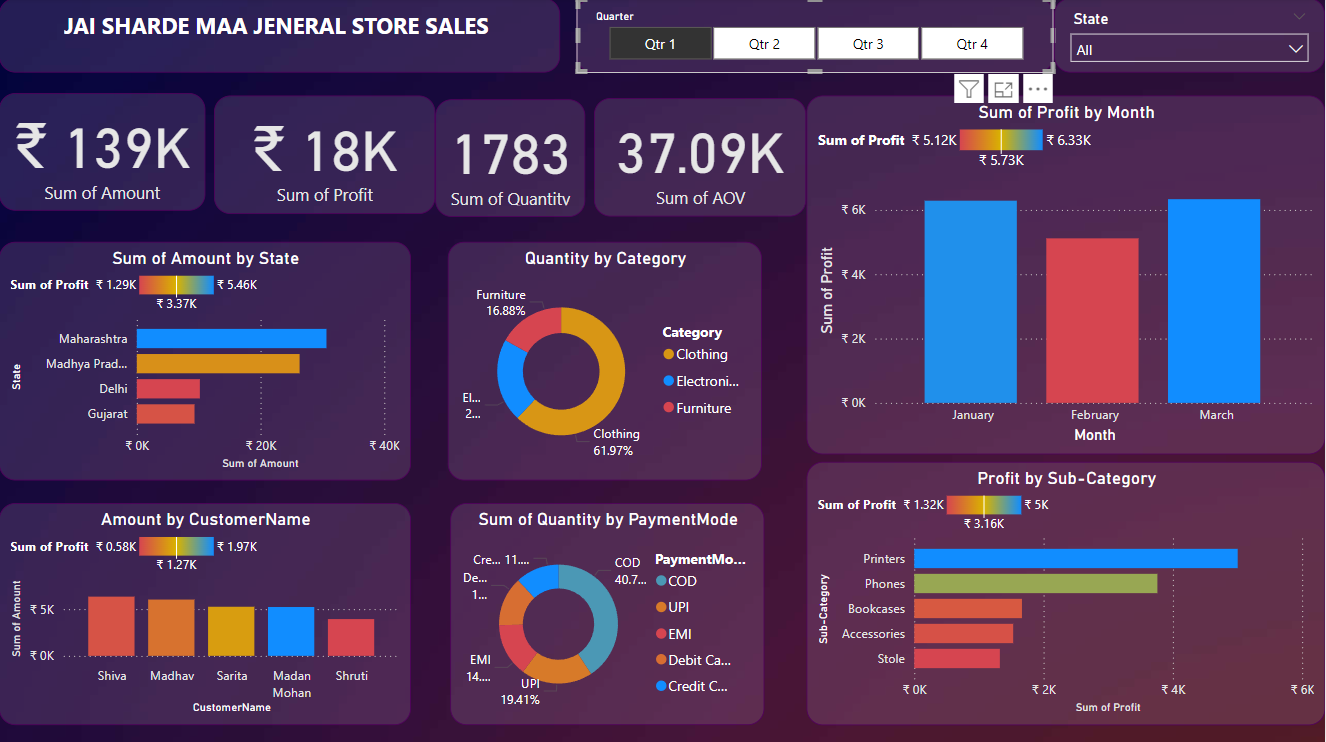

Layout of this report page (visuals, bound fields, positions):
{"tool":"powerbi","page":{"name":"Page 1","canvas":[1280,720],"ordinal":0},"visuals":[{"type":"columnChart","fields":{"Y":["Details.Profit"],"Category":["Orders (1).Order Date.Variation.Date Hierarchy.Month"]},"box":[779.4,94.1,500.7,346.2],"z":0},{"type":"textbox","box":[0,0,541.7,72.4],"z":1000},{"type":"barChart","title":"Profit by Sub-Category","fields":{"Category":["Details.Sub-Category"],"Y":["Details.Profit"]},"box":[778.8,447.1,501.2,254.1],"z":2000},{"type":"donutChart","title":" Quantity by Category","fields":{"Category":["Details.Category"],"Y":["Details.Quantity"]},"box":[432.9,235.3,303.5,230.6],"z":3000},{"type":"donutChart","fields":{"Y":["Details.Quantity"],"Category":["Details.PaymentMode"]},"box":[435.3,487.1,303.5,214.1],"z":4000},{"type":"card","fields":{"Values":["Details.Amount"]},"box":[0,91.9,199,113.9],"z":5000},{"type":"card","fields":{"Values":["Details.Quantity"]},"box":[421,97.7,144.8,113.4],"z":6000},{"type":"card","fields":{"Values":["Details.Profit"]},"box":[207.5,94.1,213.5,114.6],"z":7000},{"type":"card","fields":{"Values":["Details.AOV"]},"box":[574.3,96.5,205.1,114.6],"z":8000},{"type":"barChart","fields":{"Category":["Orders (1).State"],"Y":["Details.Amount"]},"box":[0,235.3,397.6,230.6],"z":9000},{"type":"columnChart","title":"Amount by CustomerName","fields":{"Category":["Orders (1).CustomerName"],"Y":["Details.Amount"]},"box":[0,487.1,397.6,214.1],"z":10000},{"type":"slicer","fields":{"Values":["Orders (1).Order Date.Variation.Date Hierarchy.Quarter"]},"box":[557.4,0,460.9,72.4],"z":11000},{"type":"slicer","fields":{"Values":["Orders (1).State"]},"box":[1018.2,0,261.8,72.4],"z":12000}]}

Visuals, with their boxes in screenshot pixels (x1, y1, x2, y2), scaled from the page's 1280x720 canvas onto the 1326x742 screenshot:
columnChart - Details.Profit x Orders (1).Order Date.Variation.Date Hierarchy.Month: box=[807, 97, 1325, 454]
textbox: box=[0, 0, 561, 75]
"Profit by Sub-Category" barChart: box=[807, 461, 1325, 723]
" Quantity by Category" donutChart: box=[448, 242, 763, 480]
donutChart - Details.Quantity x Details.PaymentMode: box=[451, 502, 765, 723]
card - Details.Amount: box=[0, 95, 206, 212]
card - Details.Quantity: box=[436, 101, 586, 218]
card - Details.Profit: box=[215, 97, 436, 215]
card - Details.AOV: box=[595, 99, 807, 218]
barChart - Orders (1).State x Details.Amount: box=[0, 242, 412, 480]
"Amount by CustomerName" columnChart: box=[0, 502, 412, 723]
slicer - Orders (1).Order Date.Variation.Date Hierarchy.Quarter: box=[577, 0, 1055, 75]
slicer - Orders (1).State: box=[1055, 0, 1325, 75]
